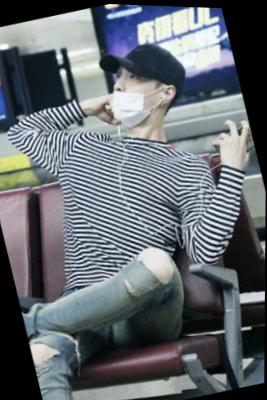WRONG: (104, 61, 162, 128)
